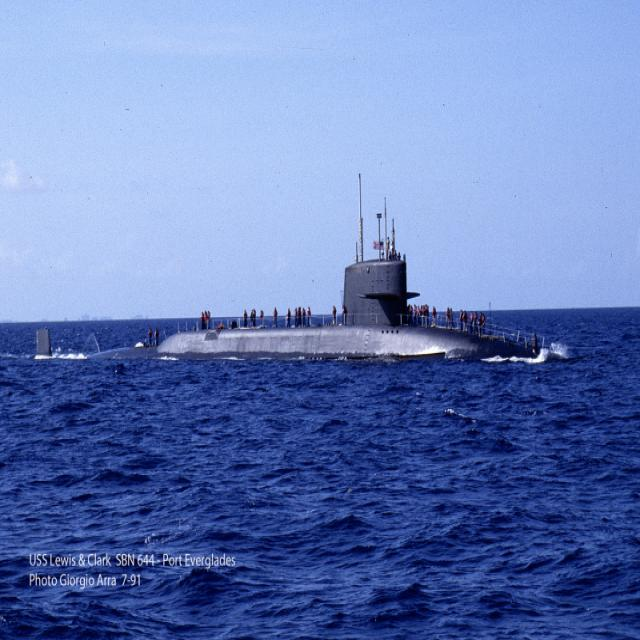submarine: (37, 170, 566, 362)
